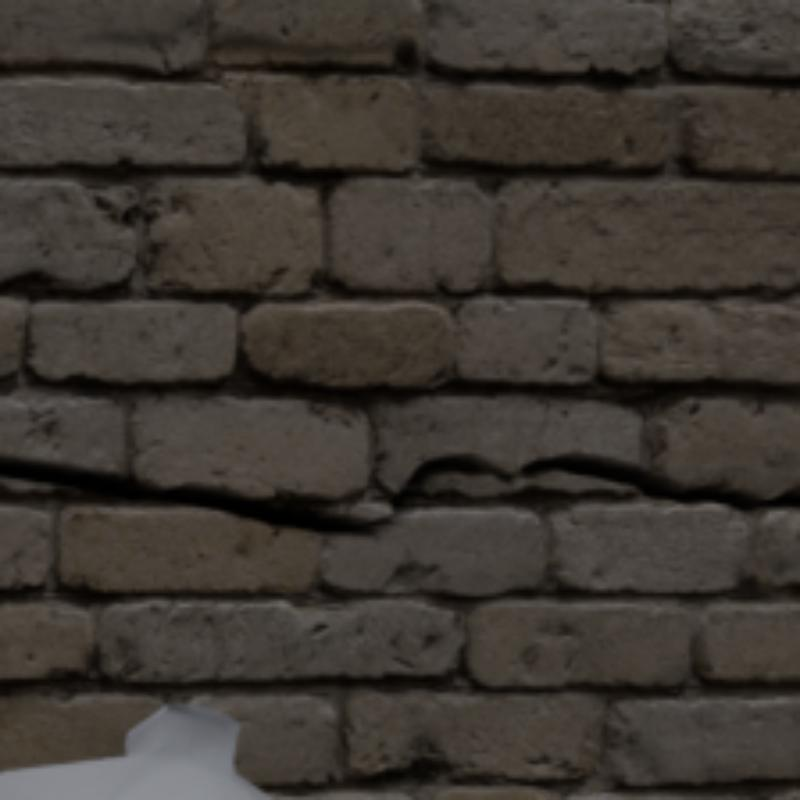crack: (0, 454, 796, 536)
